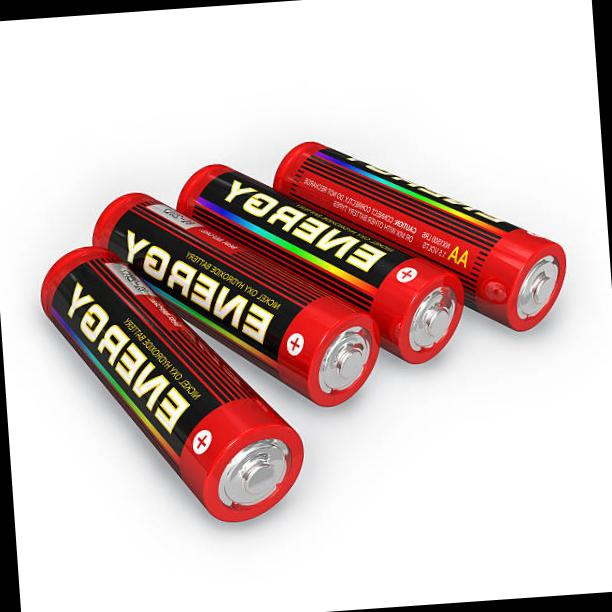battery: (21, 207, 359, 576), (67, 150, 405, 438), (252, 115, 570, 347)
